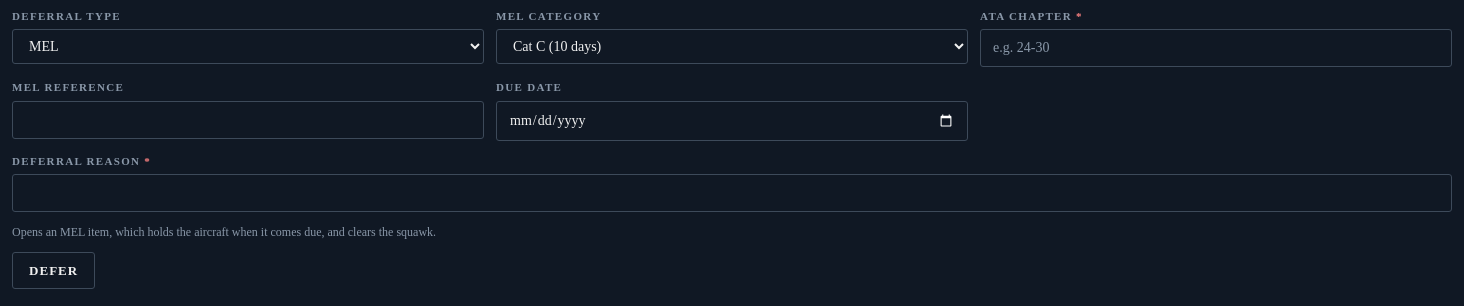
Test case: deferring (#172) › needs a date for category A and a DMI, and asks a DMI for no MEL details
Select "Cat A (per the remarks)" in the dropdown labelled "MEL Category" at [732, 47], box [496,29,968,64]
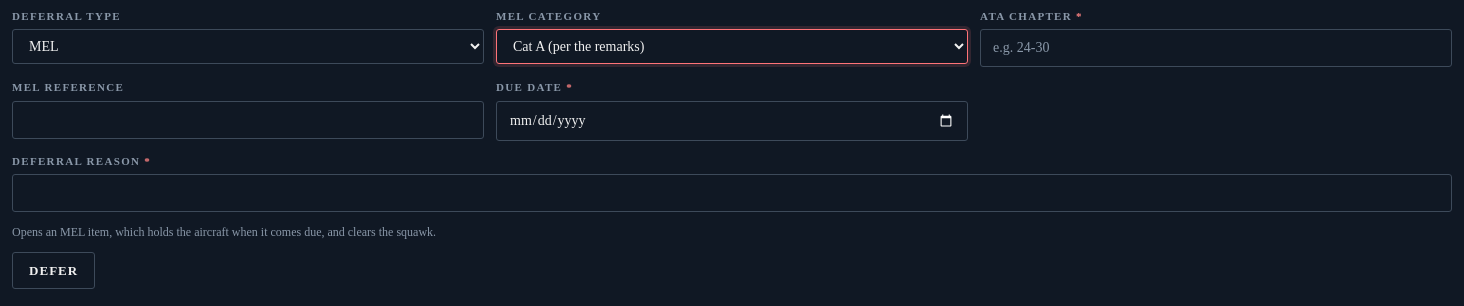
Select "Cat B (3 days)" in the dropdown labelled "MEL Category" at [732, 47], box [496,29,968,64]
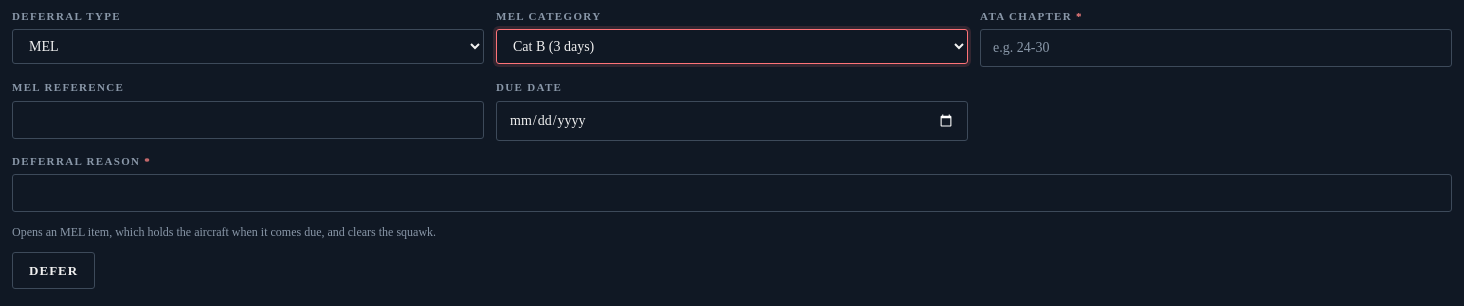
Select "DMI" in the dropdown labelled "Deferral Type" at [248, 47], box [12,29,484,64]
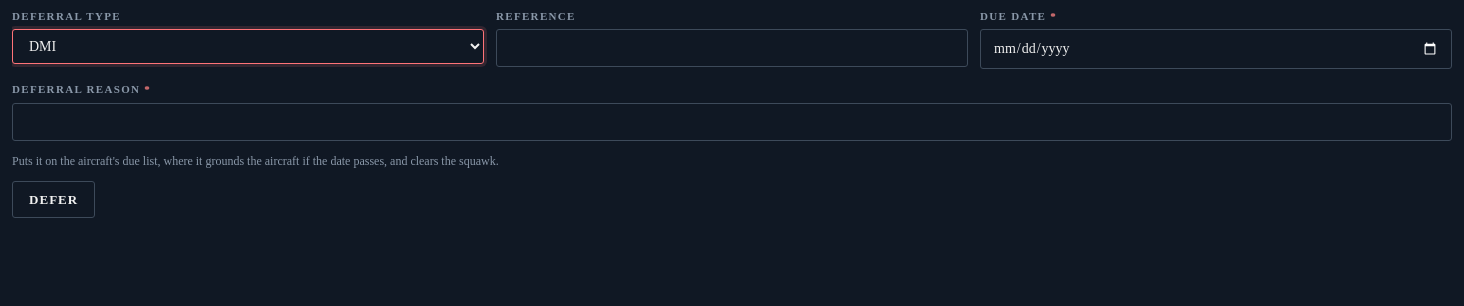
Now the label labelled "MEL Category" is gone
Now the label labelled "ATA Chapter" is gone
Now the text "grounds the aircraft if the date passes" is shown, box [12,154,499,168]
